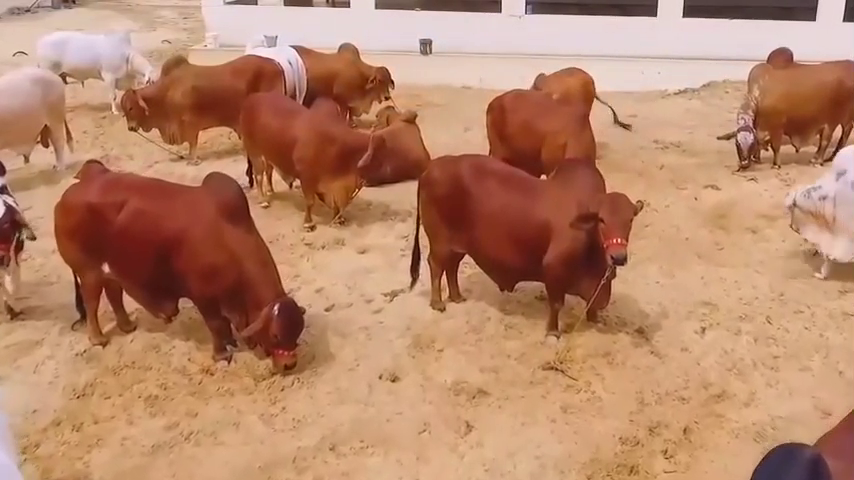bo: (51, 161, 319, 379), (403, 151, 639, 351), (234, 81, 385, 229), (114, 48, 288, 163), (723, 39, 851, 168), (476, 85, 597, 187), (776, 137, 854, 278), (34, 24, 162, 109), (747, 383, 854, 480), (529, 63, 640, 155), (287, 37, 401, 120), (2, 65, 73, 182), (2, 165, 46, 335), (350, 105, 434, 191), (243, 19, 295, 104)
